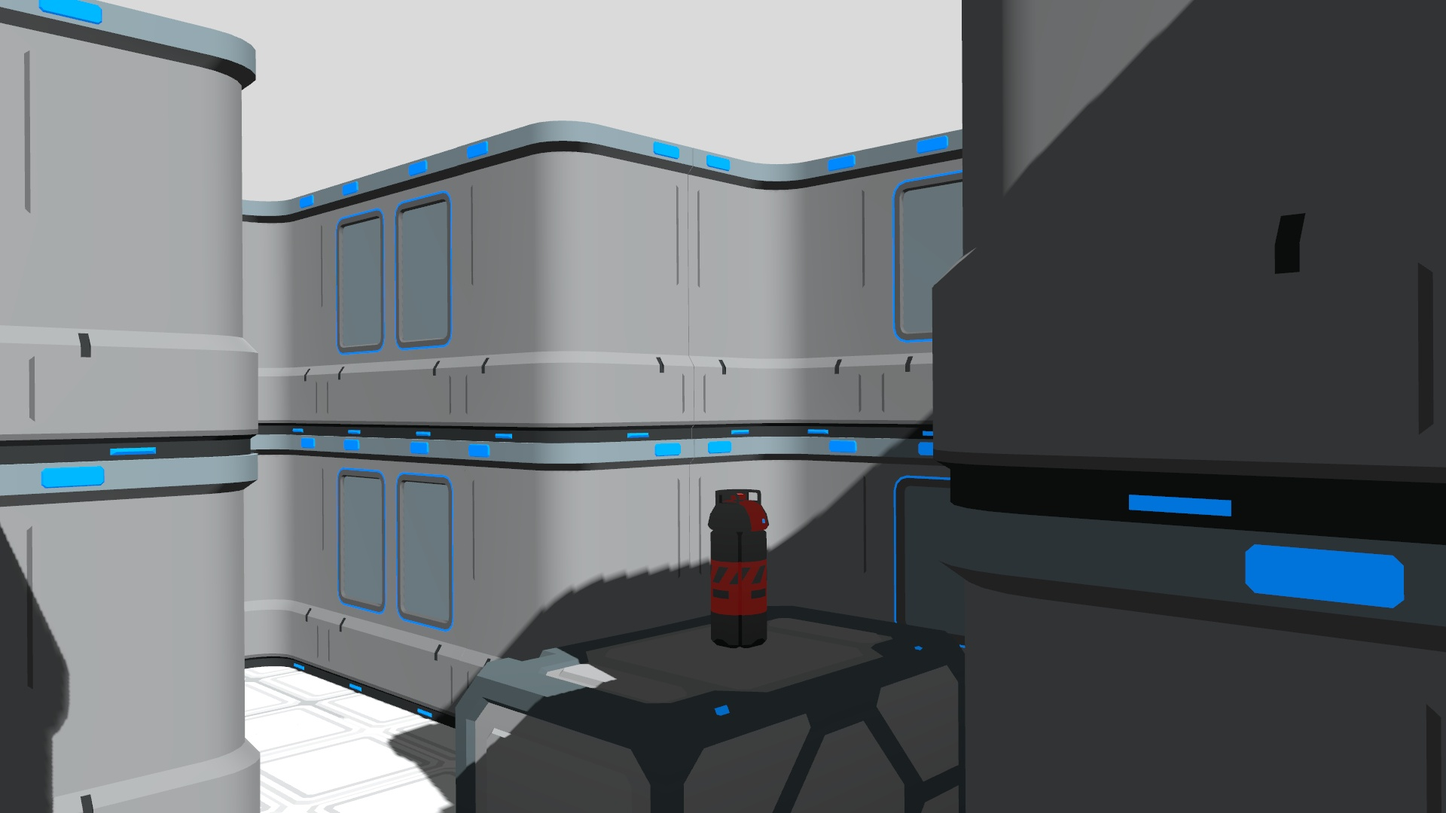red_barrel: (705, 486, 778, 653)
